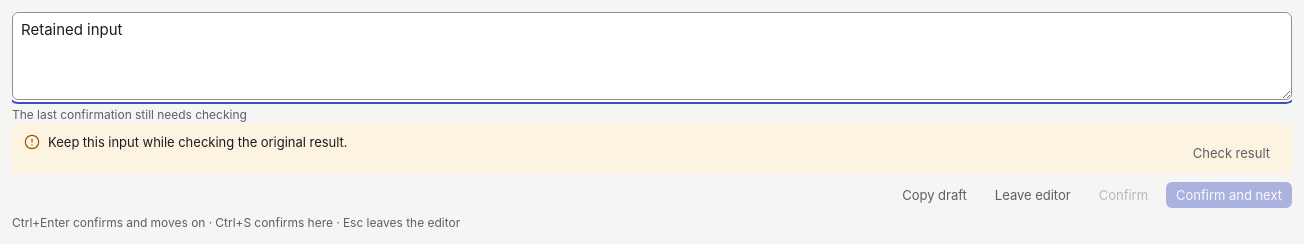
Scenario: preserves unknown input after read-failed and withholds replay
Click the button "Check result".
click(1231, 153)  # box [1183, 140, 1280, 166]
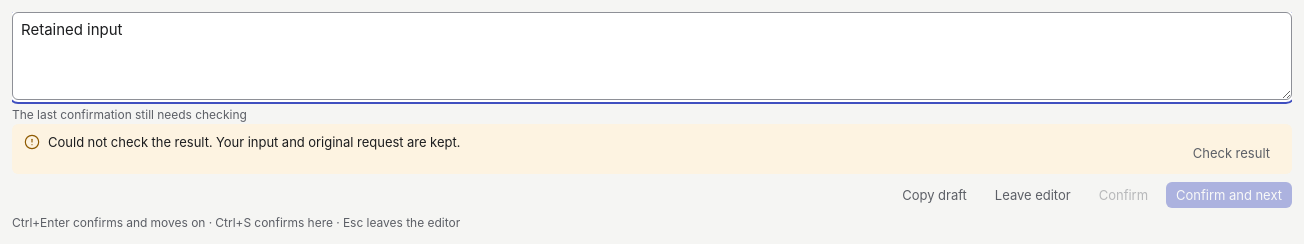
Expected: the text box named "Translation for dialogue.hello" holds "Retained input", [12, 12, 1292, 100]
Expected: the text "Could not check the result. Your input and original request are kept." is shown, [48, 134, 460, 150]
